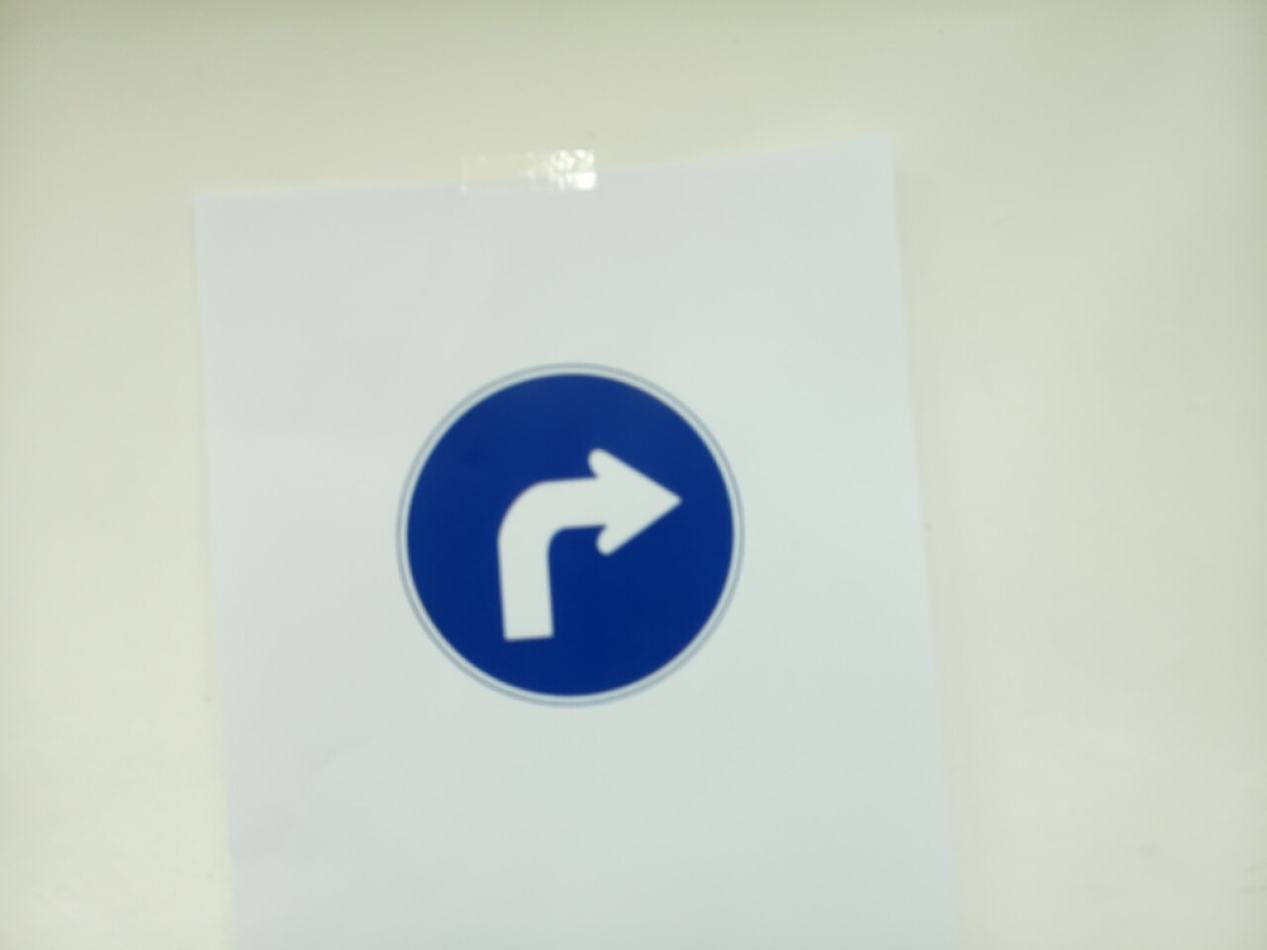right_turn: (397, 363, 744, 707)
